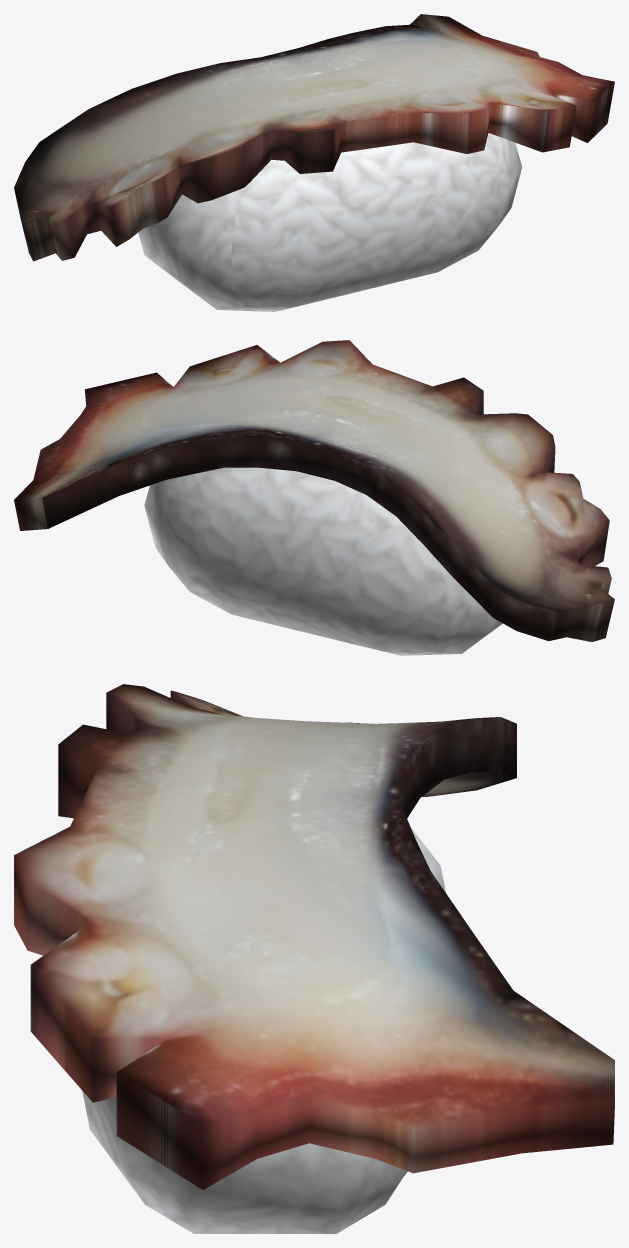
The model's file is octopus.fbx.
3 renders of one model, top to bottom at view 1: azimuth 30°, elevation 25°; view 2: azimuth 150°, elevation 25°; view 3: azimuth 270°, elevation 25°, orthographic. The views are drawn at different scales.
Visible parts, largest first — view 1: octopus; view 2: octopus; view 3: octopus.
Boxes of the visible parts, left/top/right/bottom form: octopus: left=14, top=14, right=614, bottom=311; octopus: left=14, top=340, right=614, bottom=655; octopus: left=14, top=684, right=614, bottom=1233.
Bounding box in the file's own units: 9.26 × 3.27 × 5.
